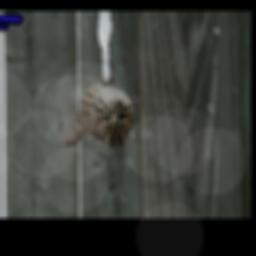Sparrow: (63, 73, 136, 149)
